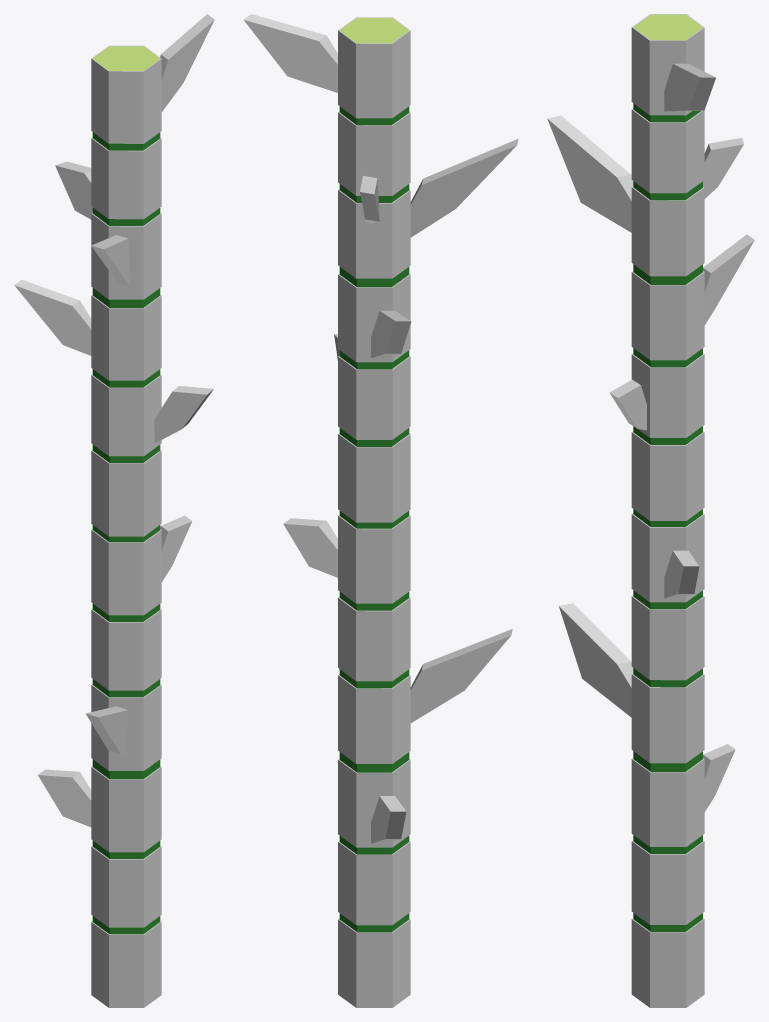
File: sugarcane-blooming.glb
The picture shows the model from 3 angles, left to right: view 1: azimuth 30°, elevation 25°; view 2: azimuth 150°, elevation 25°; view 3: azimuth 270°, elevation 25°; orthographic projection. The views are drawn at different scales.
Visible parts, largest first — view 1: Cylinder.001; view 2: Cylinder.001; view 3: Cylinder.001.
Part boxes in pixels (x1,y1,x2,y2): Cylinder.001: [14, 14, 214, 1007]; Cylinder.001: [243, 14, 518, 1007]; Cylinder.001: [547, 14, 754, 1007].
Bounding box in the file's own units: 2.43 × 11.4 × 2.21.
